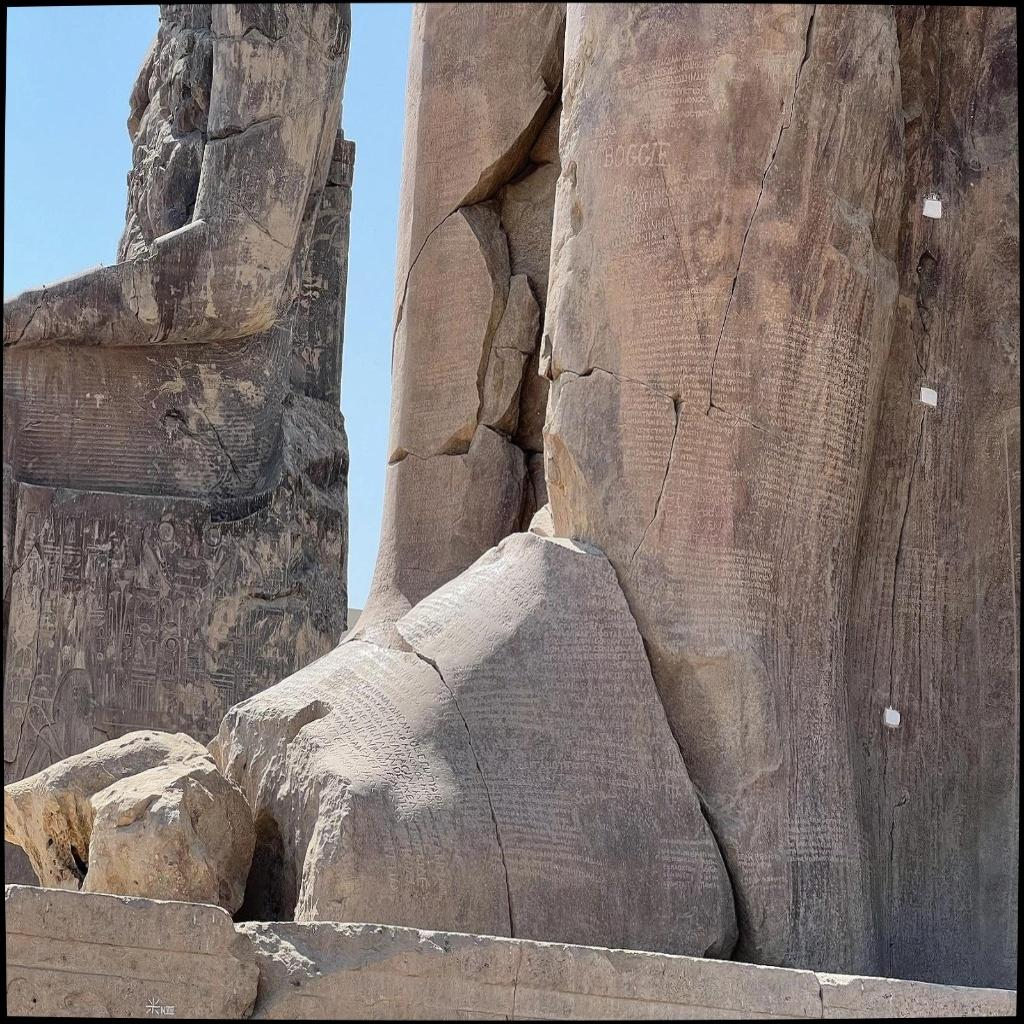Colossoi of Memnon: (6, 5, 1016, 993), (4, 4, 358, 784)
